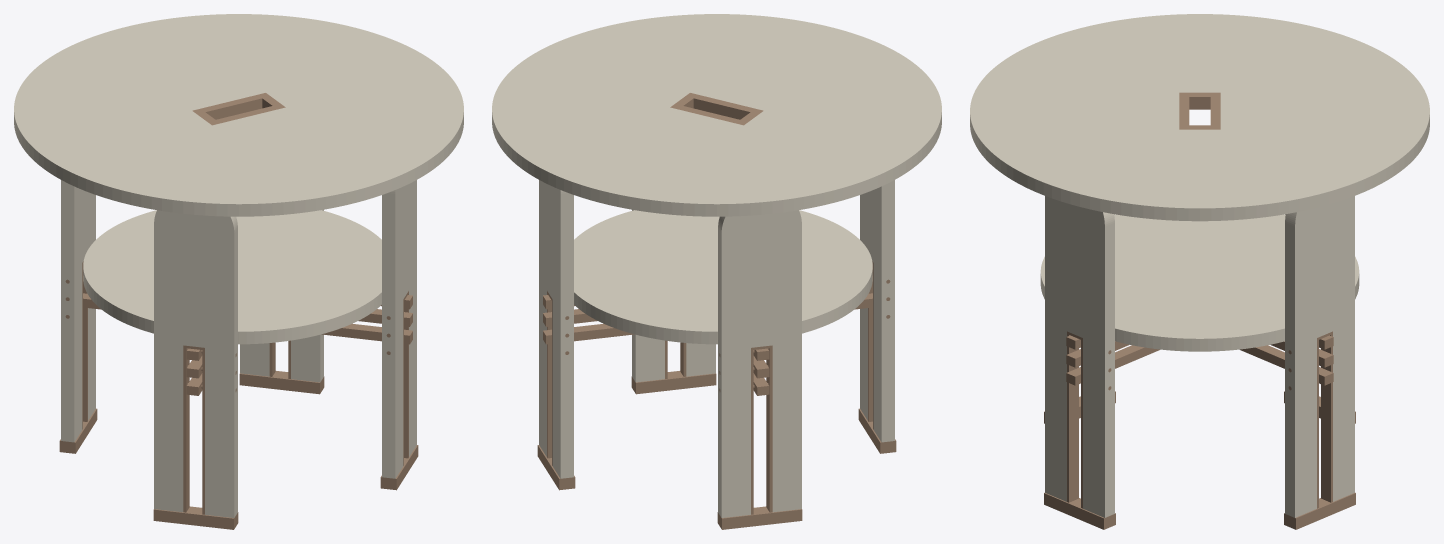
3 renders of one model, left to right at view 1: azimuth 30°, elevation 25°; view 2: azimuth 150°, elevation 25°; view 3: azimuth 270°, elevation 25°, orthographic. The views are drawn at different scales.
Visible parts, largest first — view 1: P01 Upper circular maple top with grip recess, P06 Lower circular maple shelf — no opening, P17 Arched blade 225, P22 Arched blade 315, P12 Arched blade 135, P07 Arched blade 45, P21 Foot shoe 225, P11 Foot shoe 45, P18 Slot jamb 225 / -1, P32 X level 3 beam 2, P02 Grip mitred strip north, P24 Slot jamb 315 / 1 (+3 smaller); view 2: P01 Upper circular maple top with grip recess, P06 Lower circular maple shelf — no opening, P12 Arched blade 135, P07 Arched blade 45, P17 Arched blade 225, P22 Arched blade 315, P16 Foot shoe 135, P26 Foot shoe 315, P14 Slot jamb 135 / 1, P31 X level 3 beam 1, P03 Grip mitred strip south, P08 Slot jamb 45 / -1 (+3 smaller); view 3: P01 Upper circular maple top with grip recess, P06 Lower circular maple shelf — no opening, P07 Arched blade 45, P22 Arched blade 315, P09 Slot jamb 45 / 1, P23 Slot jamb 315 / -1, P11 Foot shoe 45, P26 Foot shoe 315, P31 X level 3 beam 1, P32 X level 3 beam 2.
Part boxes in pixels (x1=…): P01 Upper circular maple top with grip recess: x1=14, y1=14, x2=463, y2=216; P06 Lower circular maple shelf — no opening: x1=83, y1=210, x2=381, y2=344; P17 Arched blade 225: x1=154, y1=210, x2=237, y2=517; P22 Arched blade 315: x1=382, y1=180, x2=416, y2=478; P12 Arched blade 135: x1=61, y1=180, x2=95, y2=442; P07 Arched blade 45: x1=240, y1=209, x2=323, y2=382; P21 Foot shoe 225: x1=153, y1=506, x2=238, y2=529; P11 Foot shoe 45: x1=239, y1=371, x2=324, y2=394; P18 Slot jamb 225 / -1: x1=183, y1=348, x2=189, y2=512; P32 X level 3 beam 2: x1=83, y1=293, x2=412, y2=344; P02 Grip mitred strip north: x1=193, y1=93, x2=265, y2=119; P24 Slot jamb 315 / 1: x1=404, y1=293, x2=408, y2=458; P01 Upper circular maple top with grip recess: x1=492, y1=14, x2=941, y2=216; P06 Lower circular maple shelf — no opening: x1=574, y1=210, x2=872, y2=344; P12 Arched blade 135: x1=718, y1=210, x2=801, y2=517; P07 Arched blade 45: x1=539, y1=180, x2=573, y2=478; P17 Arched blade 225: x1=860, y1=180, x2=894, y2=442; P22 Arched blade 315: x1=632, y1=209, x2=715, y2=382; P16 Foot shoe 135: x1=717, y1=506, x2=802, y2=529; P26 Foot shoe 315: x1=631, y1=371, x2=716, y2=394; P14 Slot jamb 135 / 1: x1=766, y1=348, x2=772, y2=512; P31 X level 3 beam 1: x1=543, y1=293, x2=872, y2=344; P03 Grip mitred strip south: x1=690, y1=93, x2=762, y2=119; P08 Slot jamb 45 / -1: x1=547, y1=293, x2=551, y2=458; P01 Upper circular maple top with grip recess: x1=970, y1=14, x2=1429, y2=221; P06 Lower circular maple shelf — no opening: x1=1040, y1=214, x2=1359, y2=351; P07 Arched blade 45: x1=1285, y1=196, x2=1354, y2=517; P22 Arched blade 315: x1=1045, y1=196, x2=1114, y2=517; P09 Slot jamb 45 / 1: x1=1321, y1=334, x2=1332, y2=502; P23 Slot jamb 315 / -1: x1=1067, y1=334, x2=1078, y2=502; P11 Foot shoe 45: x1=1284, y1=492, x2=1355, y2=529; P26 Foot shoe 315: x1=1044, y1=492, x2=1115, y2=529; P31 X level 3 beam 1: x1=1240, y1=345, x2=1333, y2=385; P32 X level 3 beam 2: x1=1066, y1=345, x2=1159, y2=385.
Bounding box in the file's own units: 0.65 × 0.55 × 0.6498.
